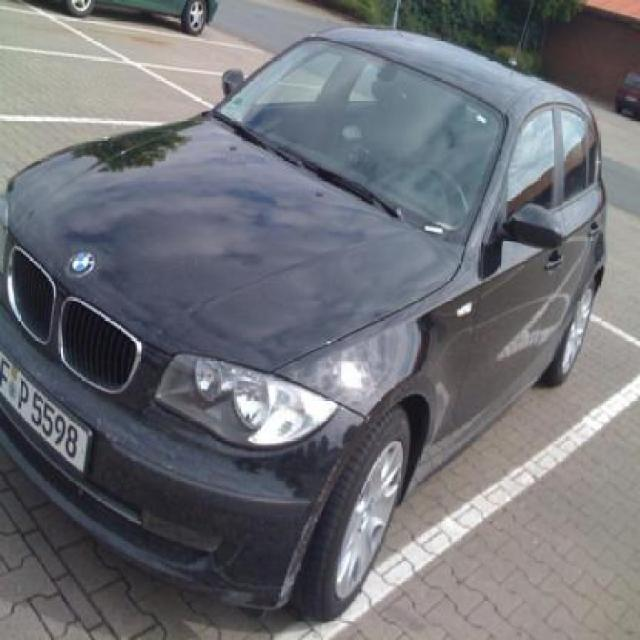License-Plates: (0, 344, 102, 482)
